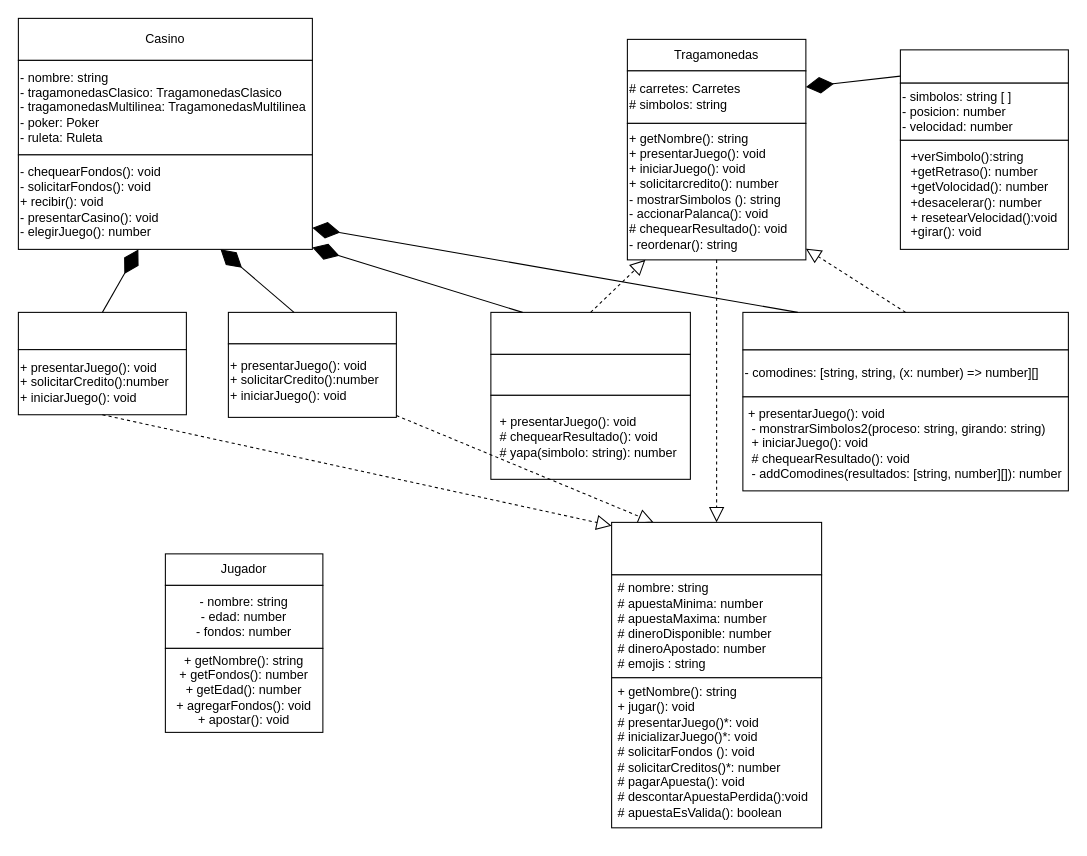
Some shapes in this 1087 by 856 pixel diagram are drawn without their labels. The shapes that lost their labels are listed below. From the top down, each one's centre as x and y in pixels, then its label:
At point (983, 66): "Carrete".
At point (101, 330): "Poker".
At point (311, 327): "Ruleta".
At point (590, 332): "TragamonedasClasico".
At point (905, 330): "TragamonedasMultilinea".
At point (590, 374): "- simbolosYapa: string[];".
At point (716, 548): "<Abtracta> JuegoDeCasinoAbstrac".
